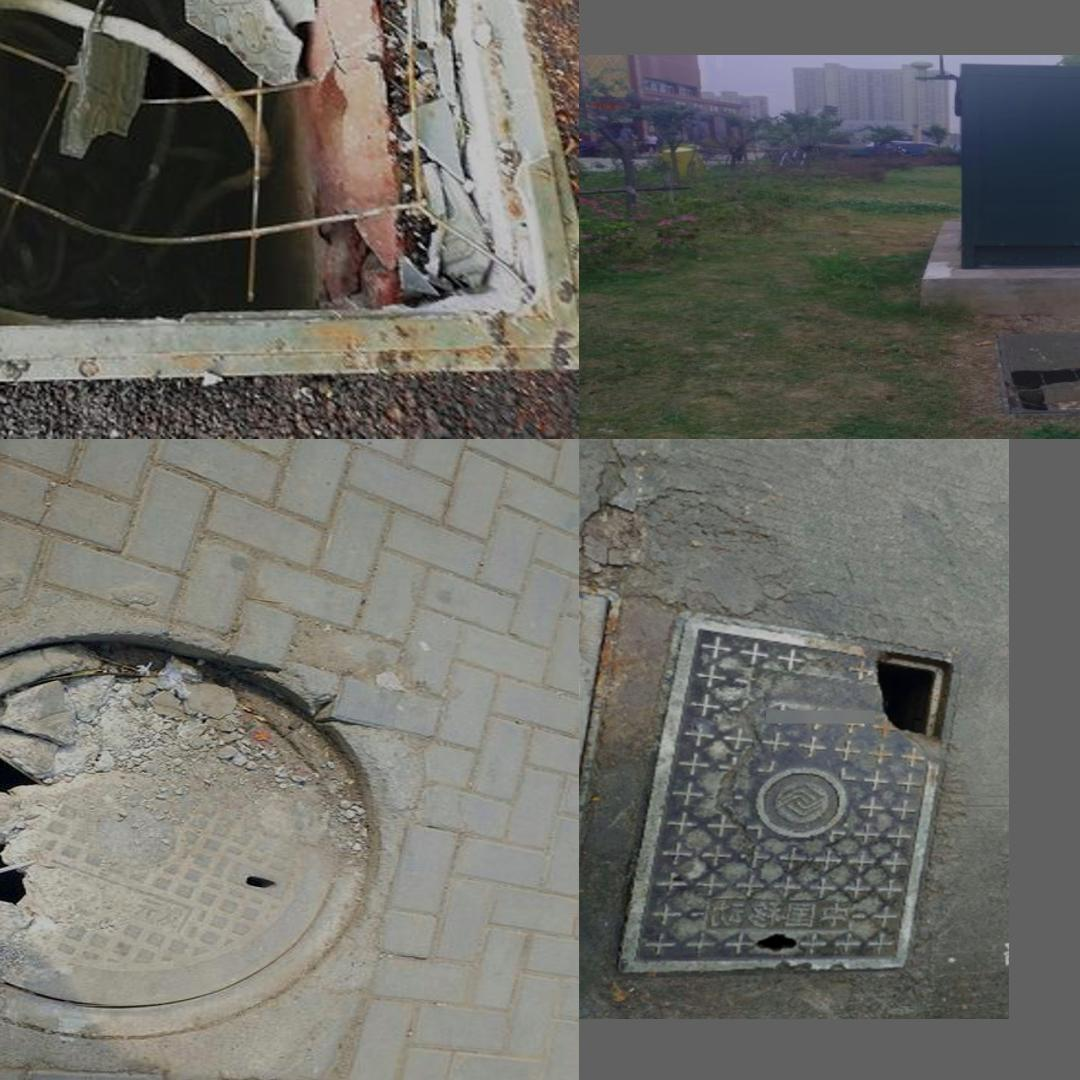broke: (0, 0, 559, 409), (0, 603, 385, 1079), (615, 610, 961, 974), (993, 328, 1080, 418)
